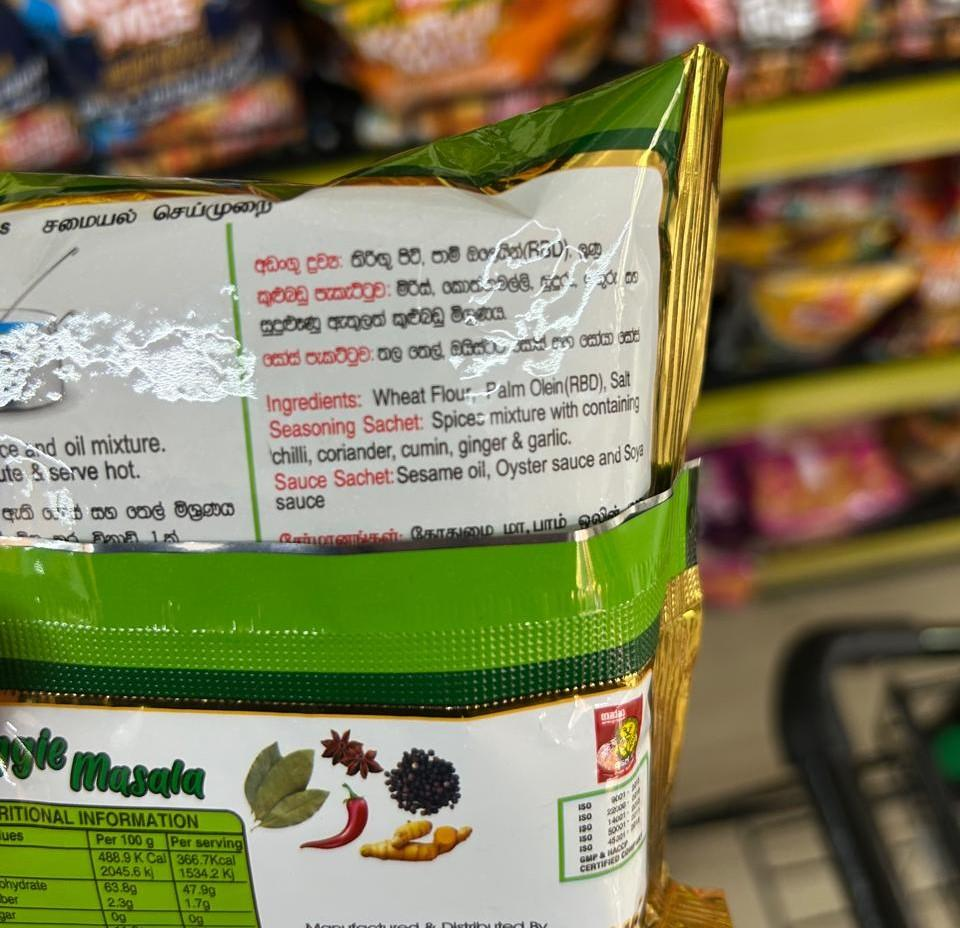ingredients: (252, 362, 698, 529)
